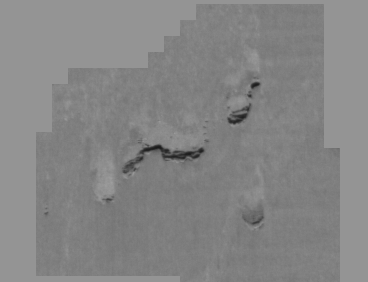oxl: (35, 10, 333, 272)
